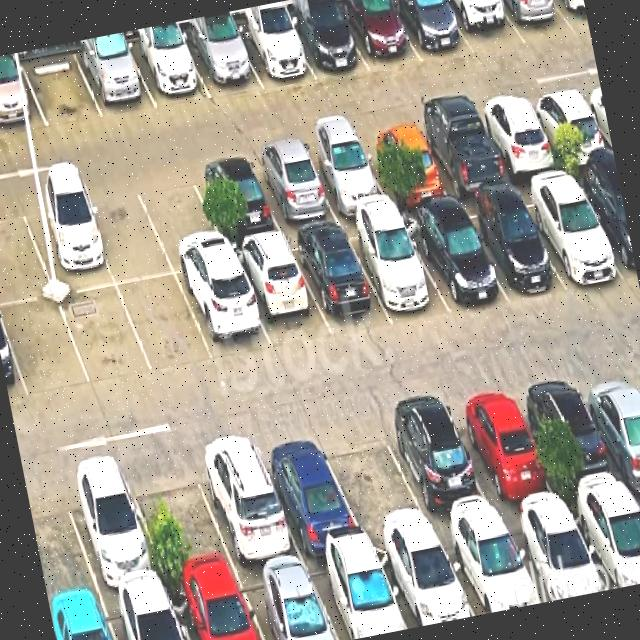empty: (122, 451, 237, 585), (315, 413, 434, 542), (133, 167, 231, 274), (25, 471, 99, 607), (80, 181, 174, 285), (117, 276, 214, 374), (59, 286, 153, 386), (0, 298, 91, 399), (21, 50, 103, 127), (0, 201, 54, 304)
occupied: (377, 397, 501, 534), (188, 432, 303, 571), (444, 385, 563, 519), (56, 460, 167, 596), (252, 426, 366, 557), (519, 371, 631, 504), (514, 177, 626, 287), (400, 207, 509, 314), (455, 195, 564, 301), (230, 238, 332, 351), (287, 227, 391, 335), (343, 217, 450, 321), (18, 190, 115, 295), (503, 509, 608, 603), (439, 521, 542, 615), (305, 547, 407, 640), (373, 537, 475, 629), (177, 265, 273, 361), (413, 111, 511, 199), (574, 362, 640, 491), (189, 156, 283, 246), (247, 146, 339, 232), (236, 563, 338, 640), (300, 135, 392, 219), (357, 123, 451, 205), (474, 98, 564, 181), (571, 169, 638, 280), (526, 88, 615, 169), (568, 492, 640, 590), (283, 3, 369, 80), (74, 42, 157, 118), (126, 35, 211, 109), (168, 574, 263, 640), (336, 0, 421, 72), (231, 17, 316, 88), (183, 26, 262, 98), (391, 0, 474, 62), (442, 0, 526, 56), (103, 587, 187, 640), (0, 60, 47, 136), (498, 0, 576, 44), (50, 599, 116, 640), (555, 0, 590, 33)
